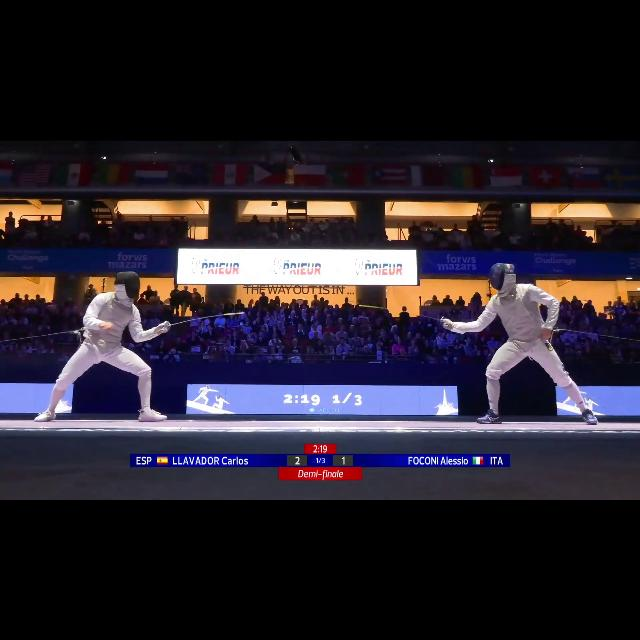blade: (354, 298, 450, 334), (158, 308, 248, 336)
